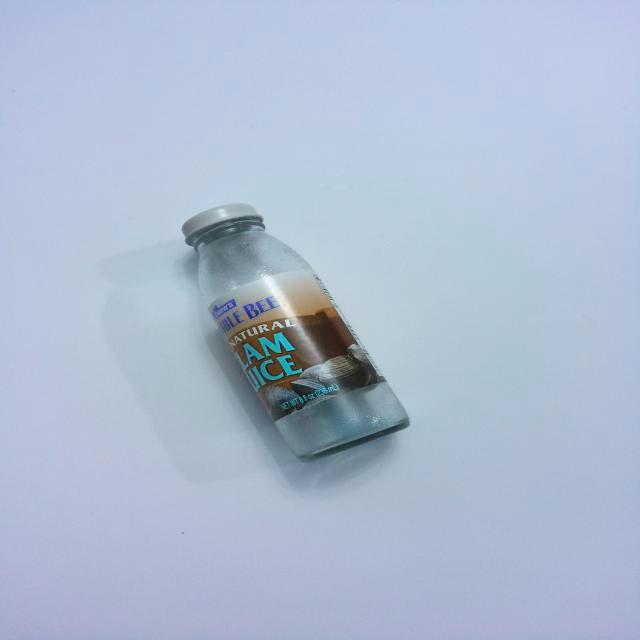glass: (172, 193, 431, 472)
